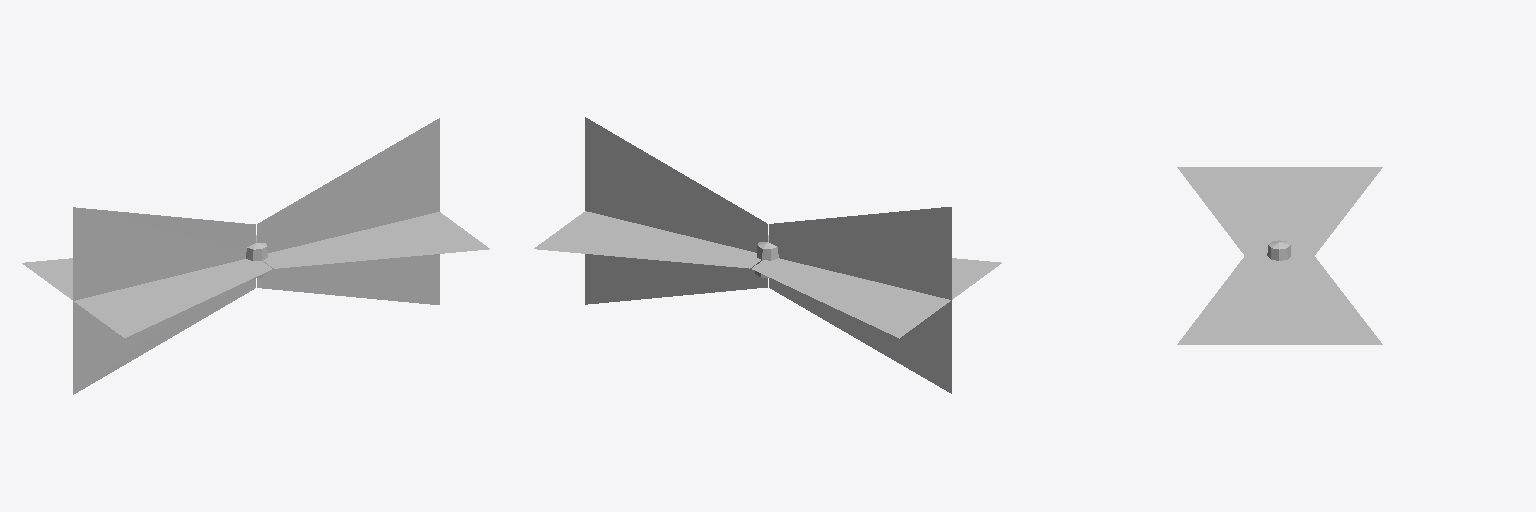
File: stg400_MotRotlightA_16.obj
The picture shows the model from 3 angles: view 1: azimuth 30°, elevation 25°; view 2: azimuth 150°, elevation 25°; view 3: azimuth 270°, elevation 25°; orthographic projection.
Visible parts, largest first — view 1: polygon4; view 2: polygon4; view 3: polygon4.
Part boxes in pixels (left/top/right/bottom): polygon4: left=22, top=118, right=489, bottom=394; polygon4: left=534, top=117, right=1001, bottom=393; polygon4: left=1177, top=167, right=1382, bottom=344.
Size of the model in its own units: 131 by 63.89 by 63.88.